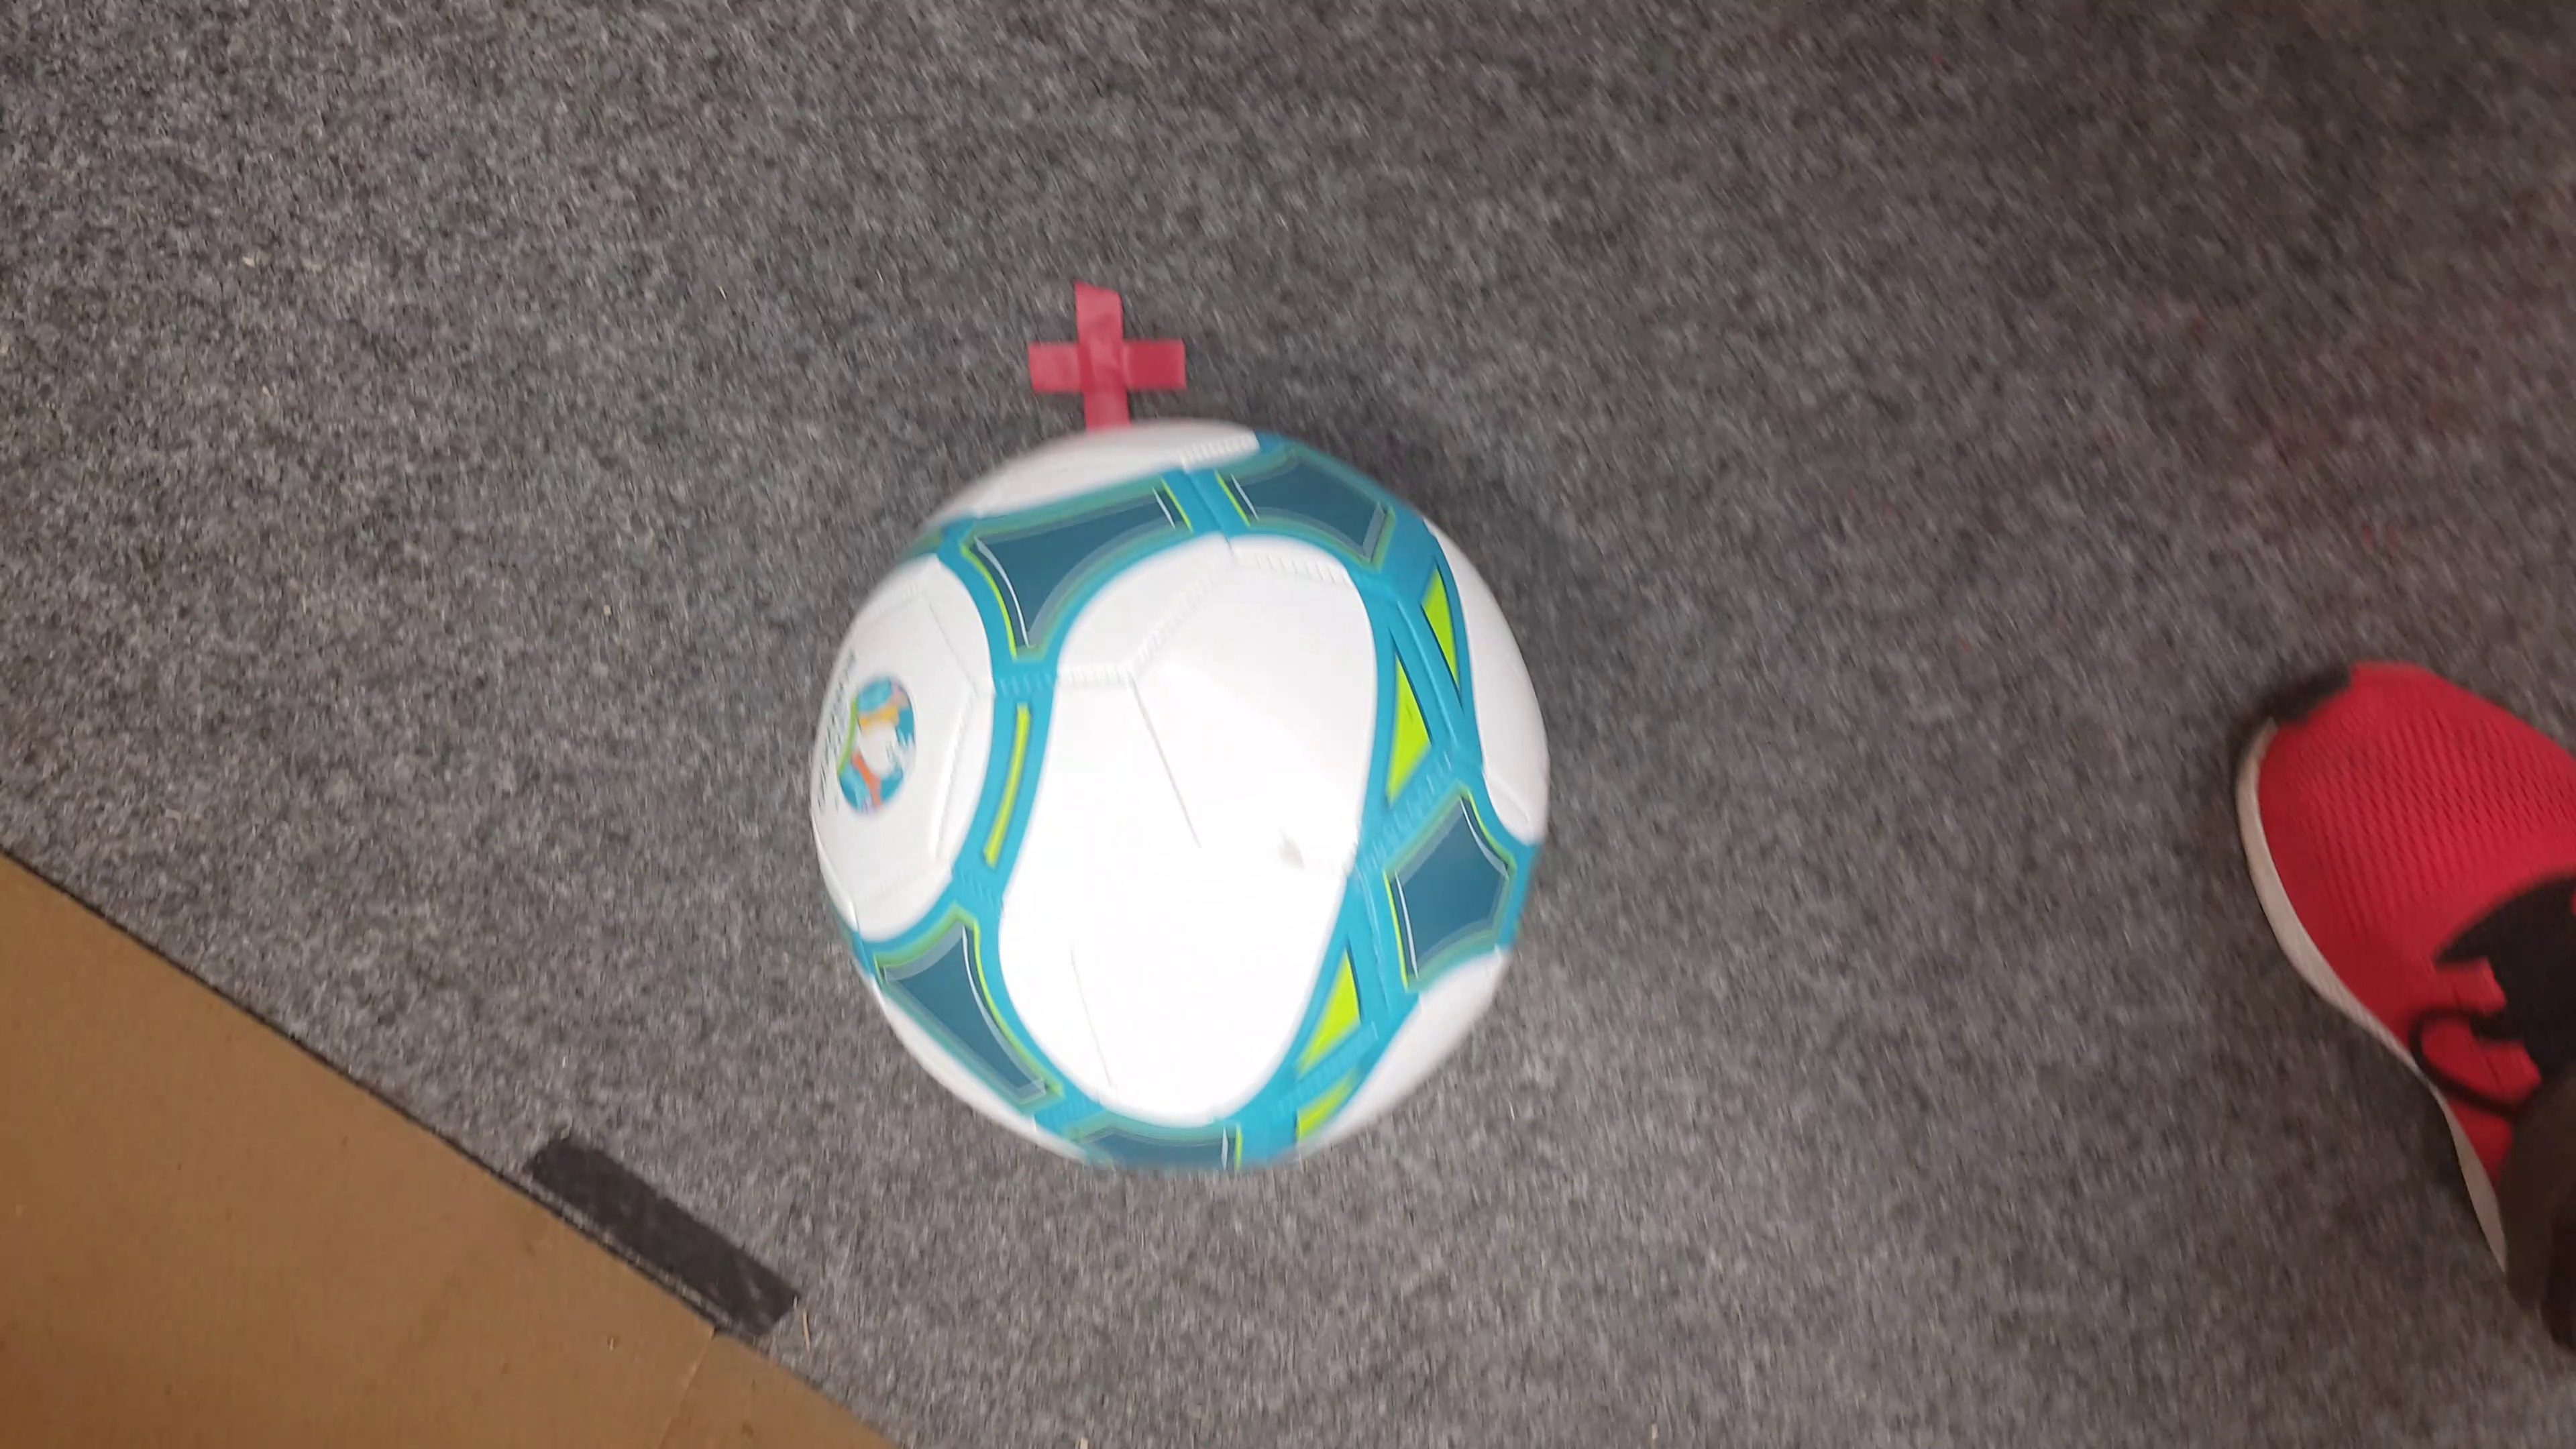kick: (807, 423, 1557, 1168)
